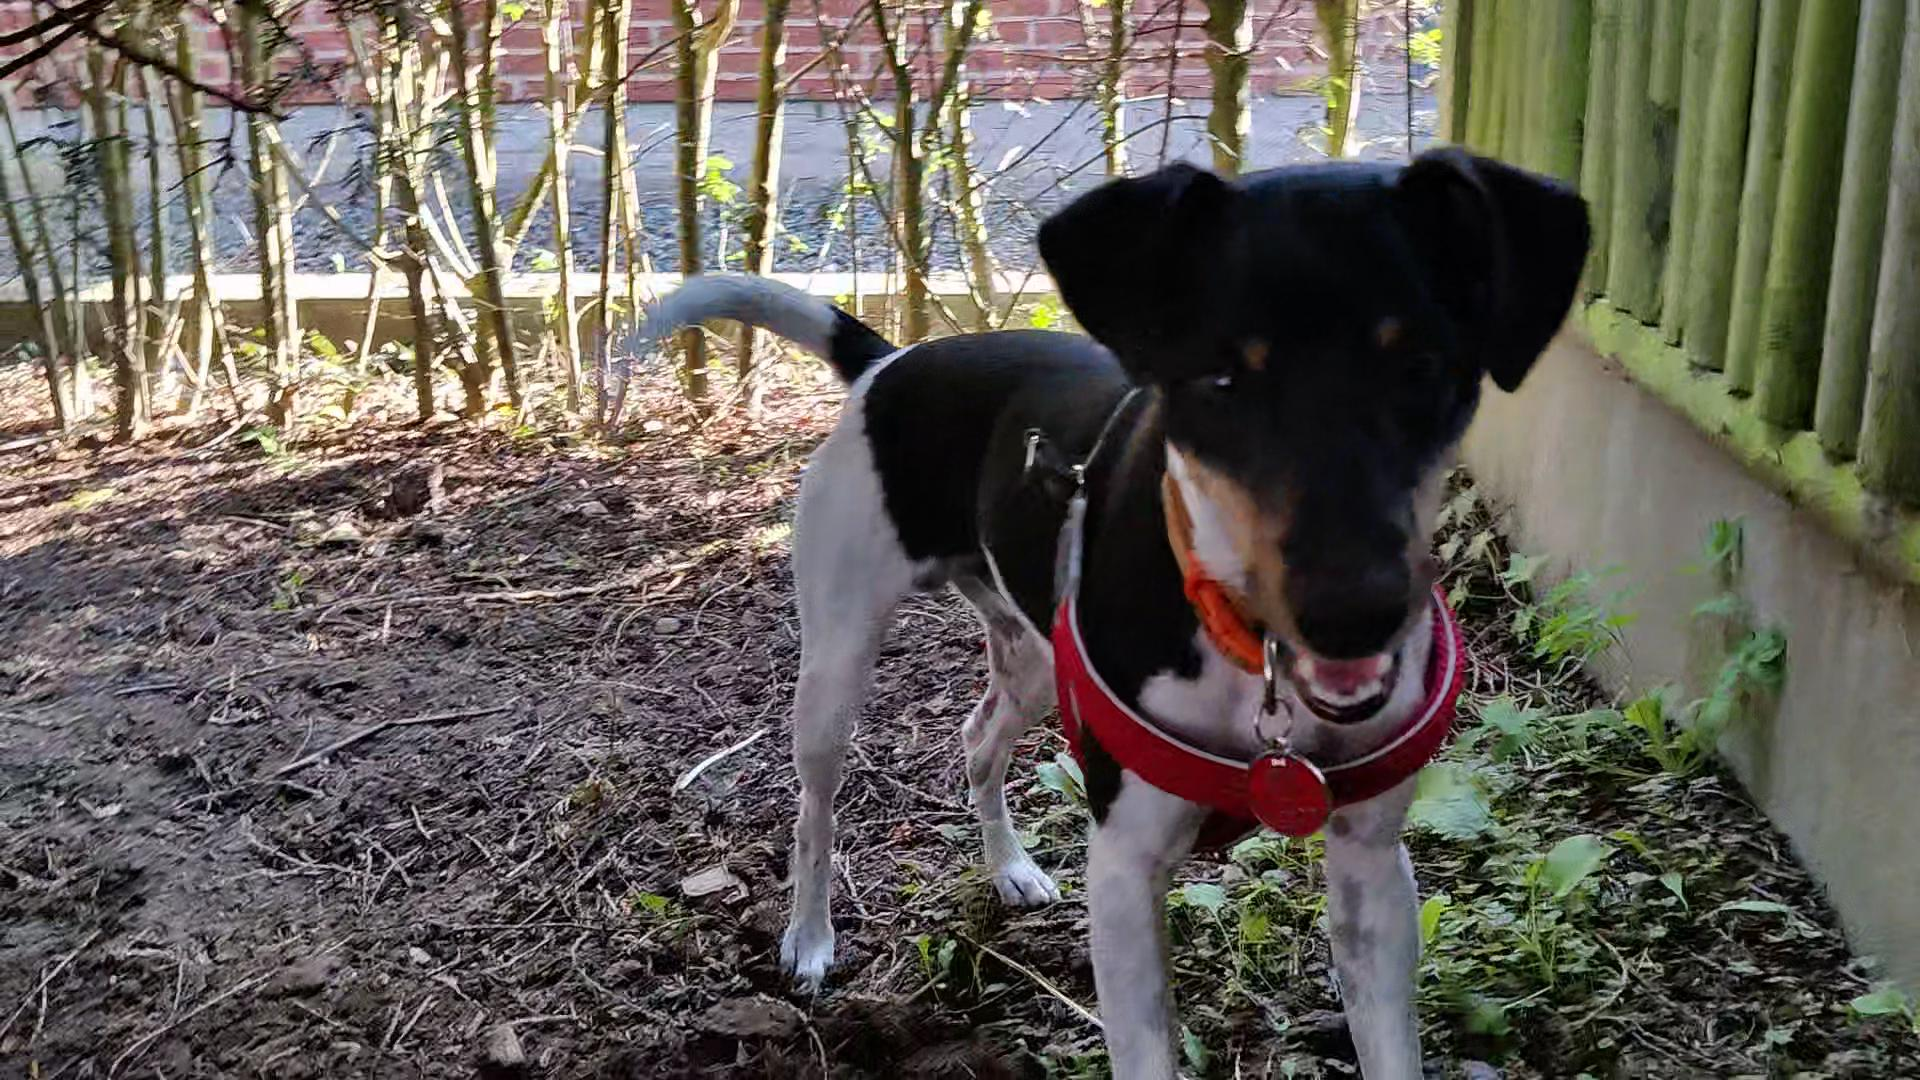Dog: (600, 136, 1615, 1079)
